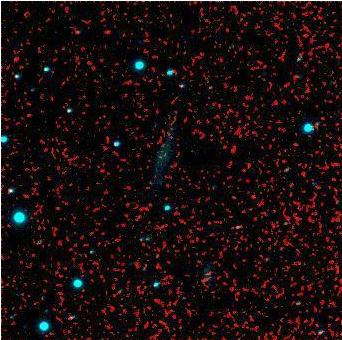star: (92, 15, 122, 45)
